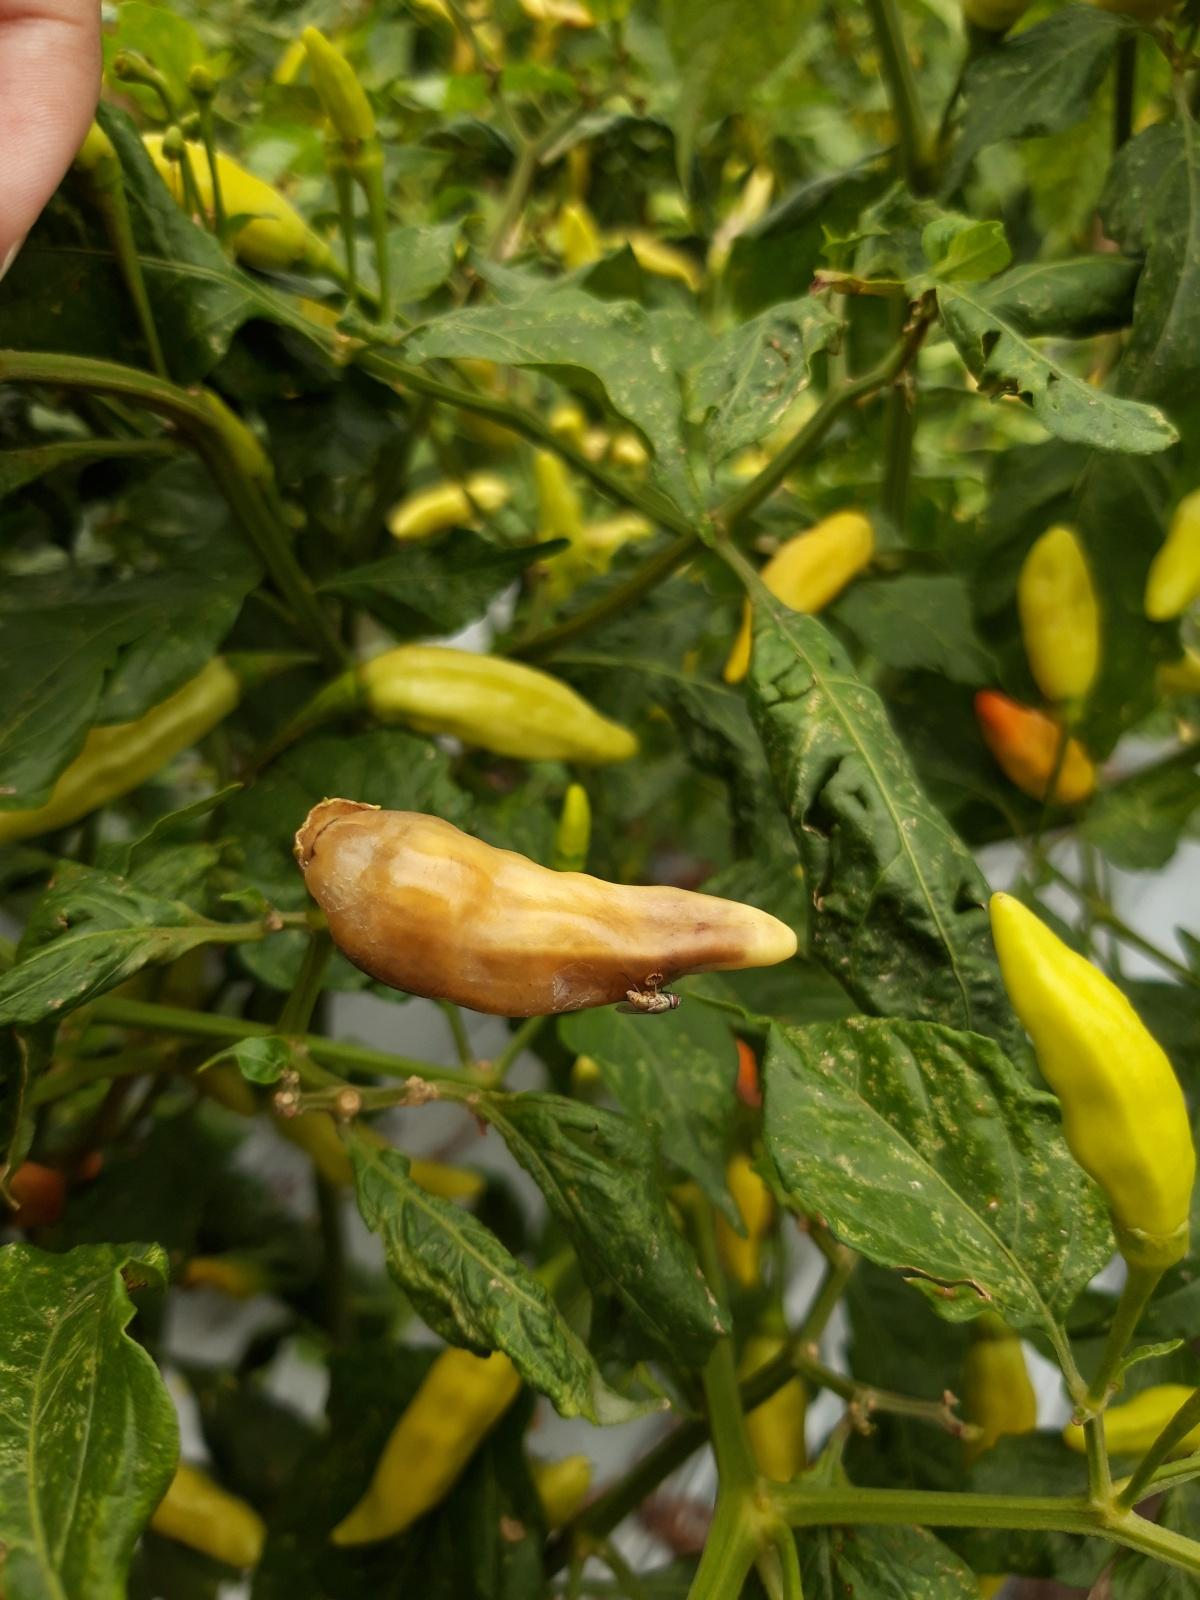cabai_normal: (986, 889, 1196, 1260), (330, 1276, 545, 1547), (3, 648, 245, 835), (355, 643, 644, 763), (722, 511, 879, 687), (134, 129, 311, 270), (1017, 525, 1103, 700), (974, 688, 1094, 813), (299, 24, 377, 149)
lalat_buah: (286, 810, 795, 1038)
